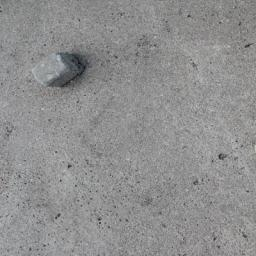FOD: (29, 49, 91, 93)
